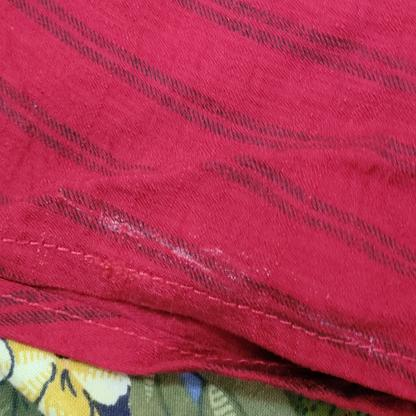spot: (87, 194, 178, 254), (180, 231, 244, 289)
